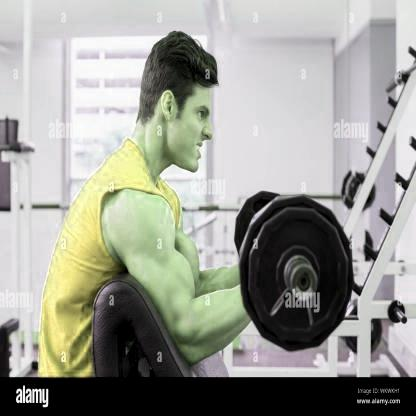Barbell: (278, 252, 322, 306), (290, 262, 322, 306)
